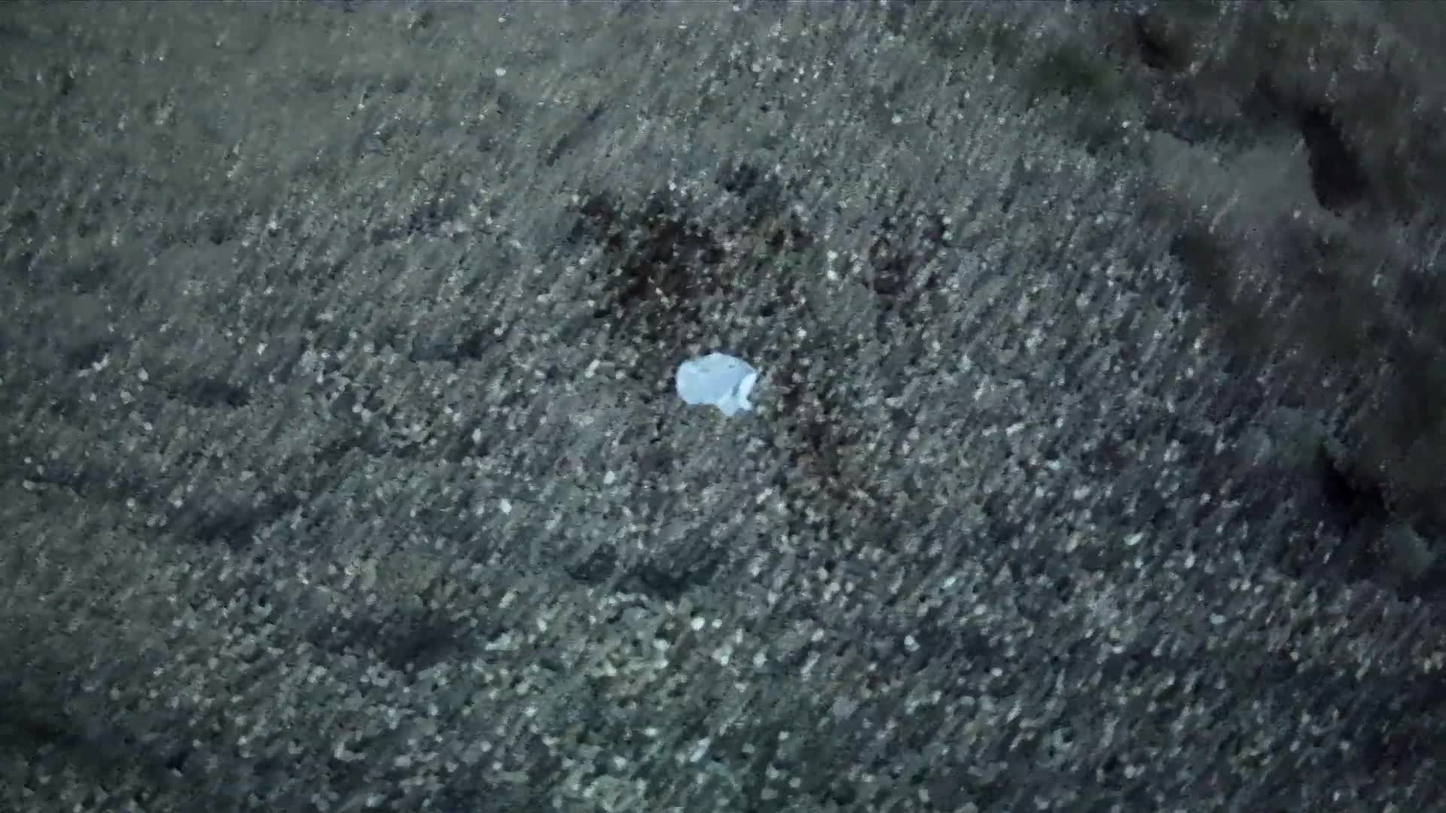Target: (673, 350, 761, 421)
